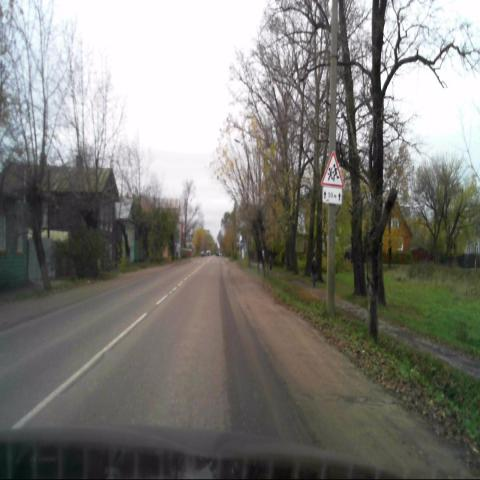1_23: (320, 150, 344, 184)
